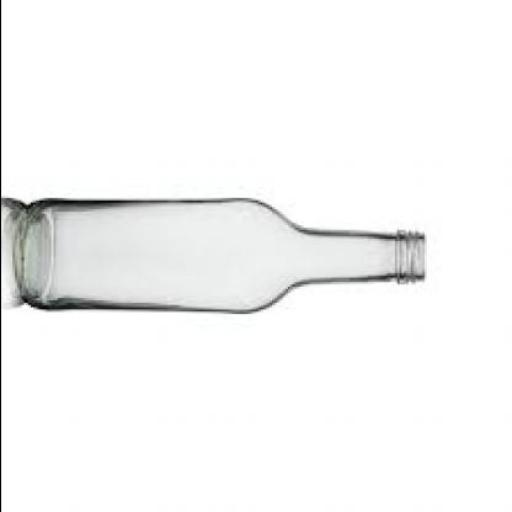glass: (16, 203, 426, 316)
